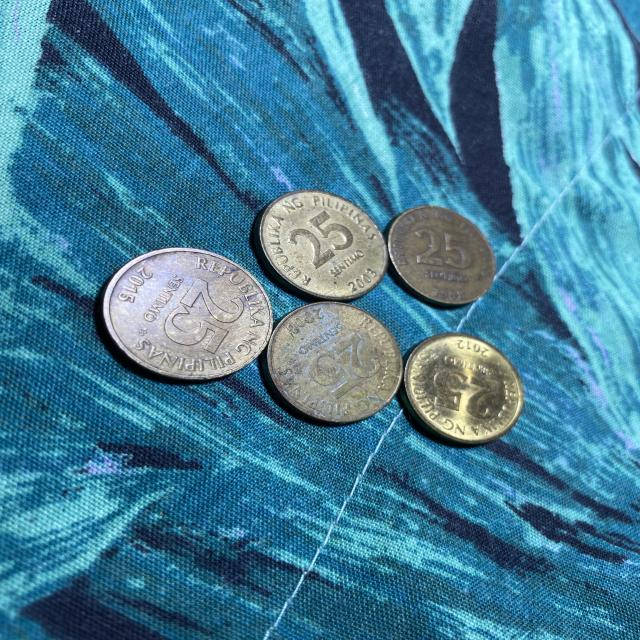25Cent_Old_Front: (169, 277, 244, 351), (312, 332, 381, 398), (289, 212, 353, 266), (431, 369, 503, 416), (414, 227, 477, 271)
